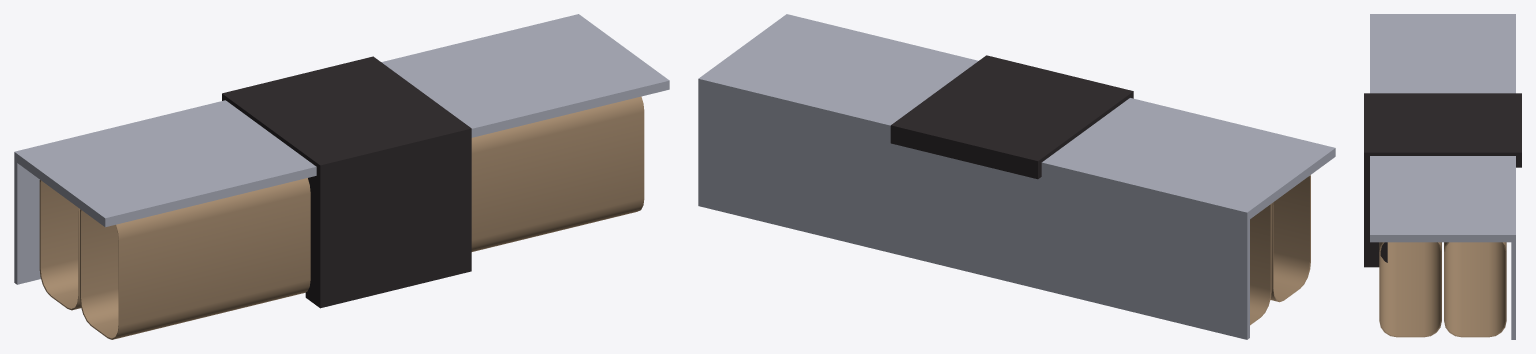
Rendered from SM_counter_large.fbx.
3 renders of one model, left to right at view 1: azimuth 30°, elevation 25°; view 2: azimuth 150°, elevation 25°; view 3: azimuth 270°, elevation 25°, orthographic. The views are drawn at different scales.
Parts seen in each view (by area): view 1: counter_large; view 2: counter_large; view 3: counter_large.
Part boxes in pixels (x1,y1,x2,y2): counter_large: (14,14,669,339); counter_large: (698,14,1335,339); counter_large: (1364,14,1521,339).
Bounding box in the file's own units: 463 × 112 × 140.
